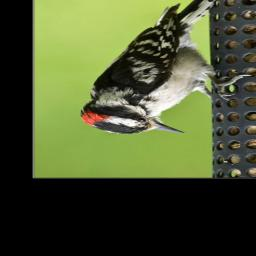Woodpecker: (81, 0, 245, 137)
